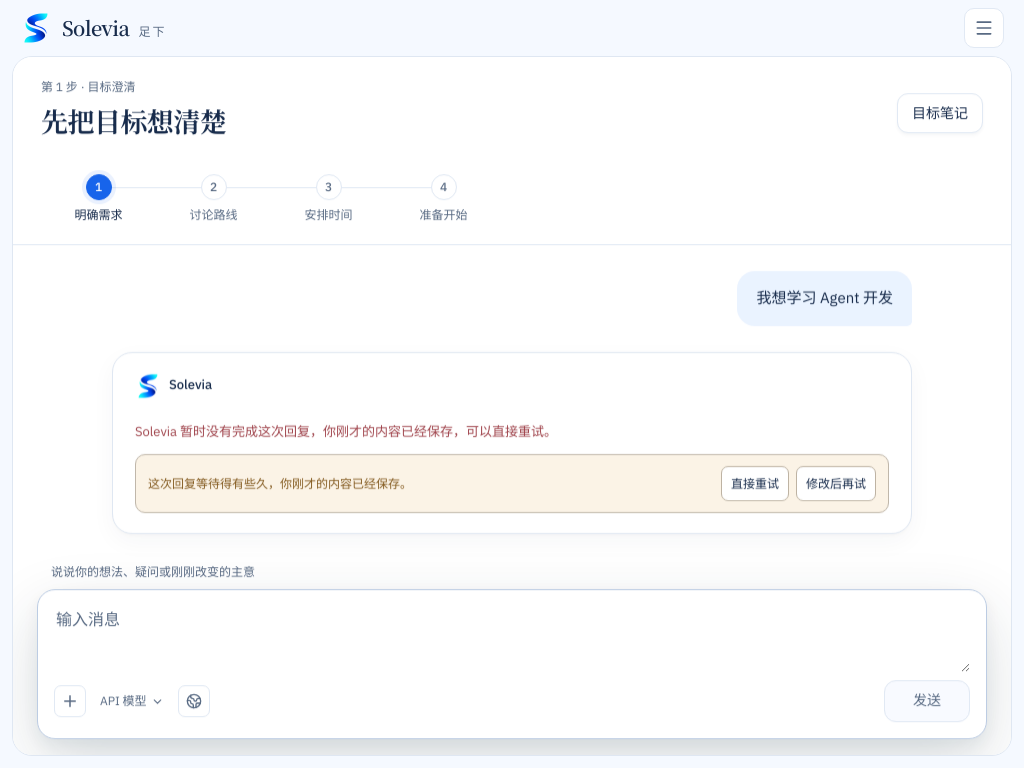
Test: App › retries a timed-out clarification without asking the user to resubmit
The width and height of the screenshot is (1024, 768).
Expected: the text "Solevia 暂时没有完成这次回复，你刚才的内容已经保存，可以直接重试。" is shown, [135,422,557,440]
Click the button "直接重试": (755, 484) [721,466,789,501]
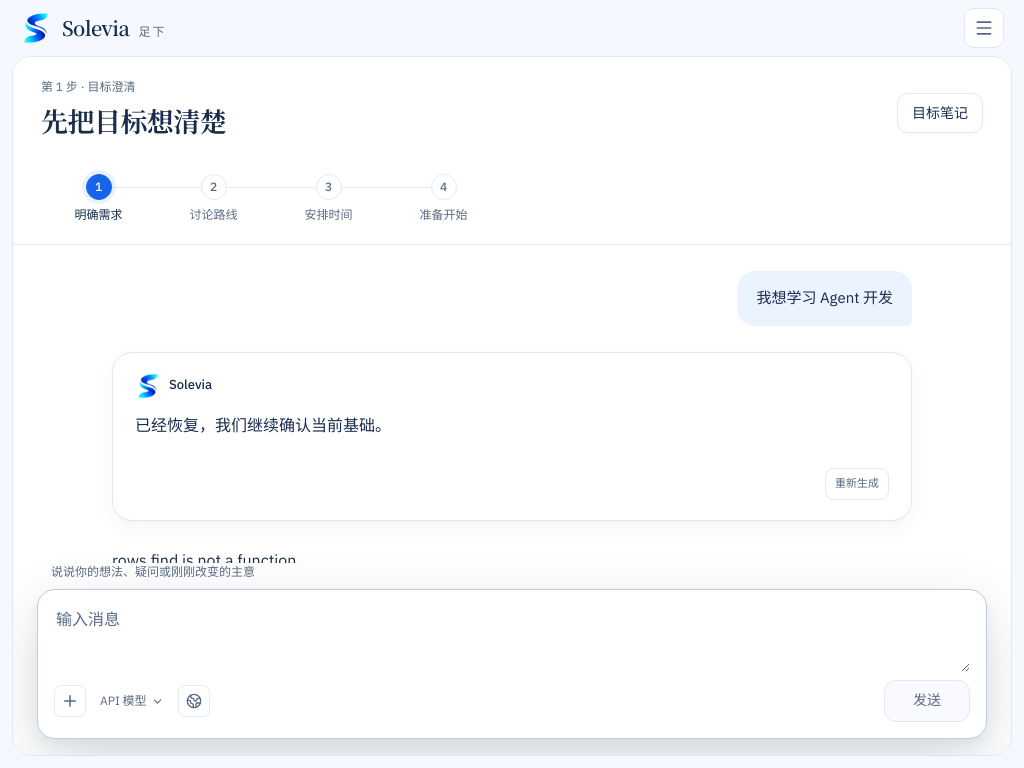
Expected: the text "已经恢复，我们继续确认当前基础。" is shown, [135,414,391,434]
